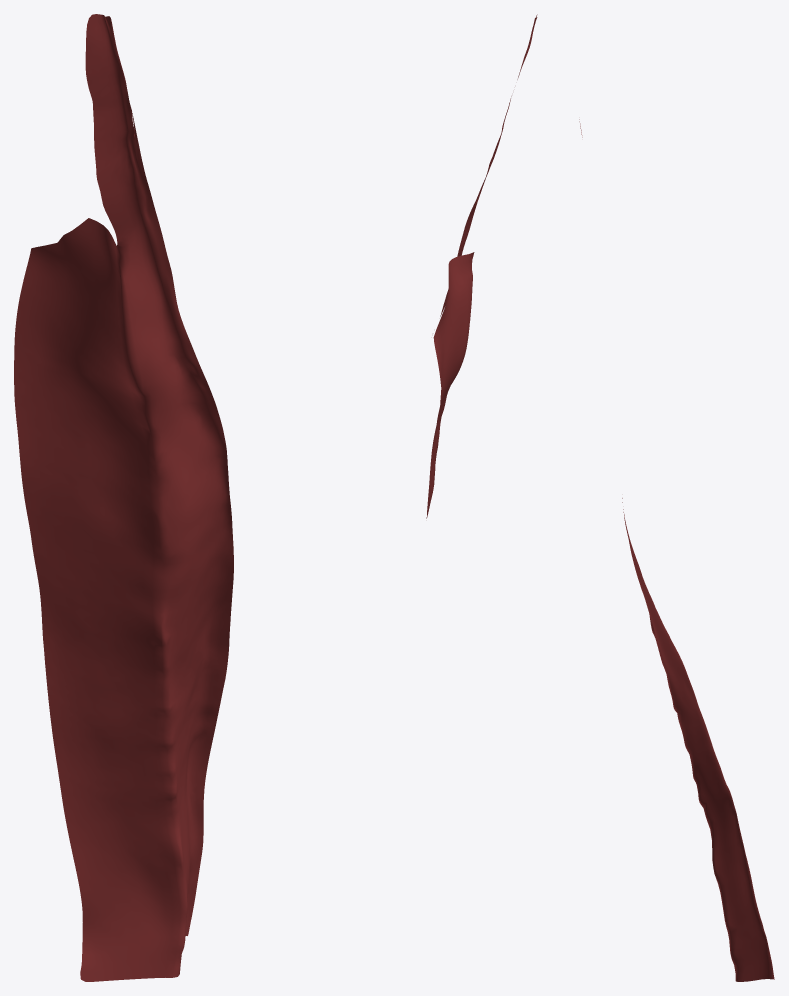
The model's file is medial-femoral-intermuscular-septum-r.glb.
3 renders of one model, left to right at view 1: azimuth 30°, elevation 25°; view 2: azimuth 150°, elevation 25°; view 3: azimuth 270°, elevation 25°, orthographic. The views are drawn at different scales.
Visible parts, largest first — view 1: Medial femoral intermuscular septum.r; view 2: Medial femoral intermuscular septum.r; view 3: Medial femoral intermuscular septum.r.
Part boxes in pixels (x1,y1,x2,y2): Medial femoral intermuscular septum.r: (14, 14, 233, 981); Medial femoral intermuscular septum.r: (426, 14, 537, 518); Medial femoral intermuscular septum.r: (579, 119, 774, 981).
Size of the model in its own units: 0.086 by 0.4059 by 0.0838.
